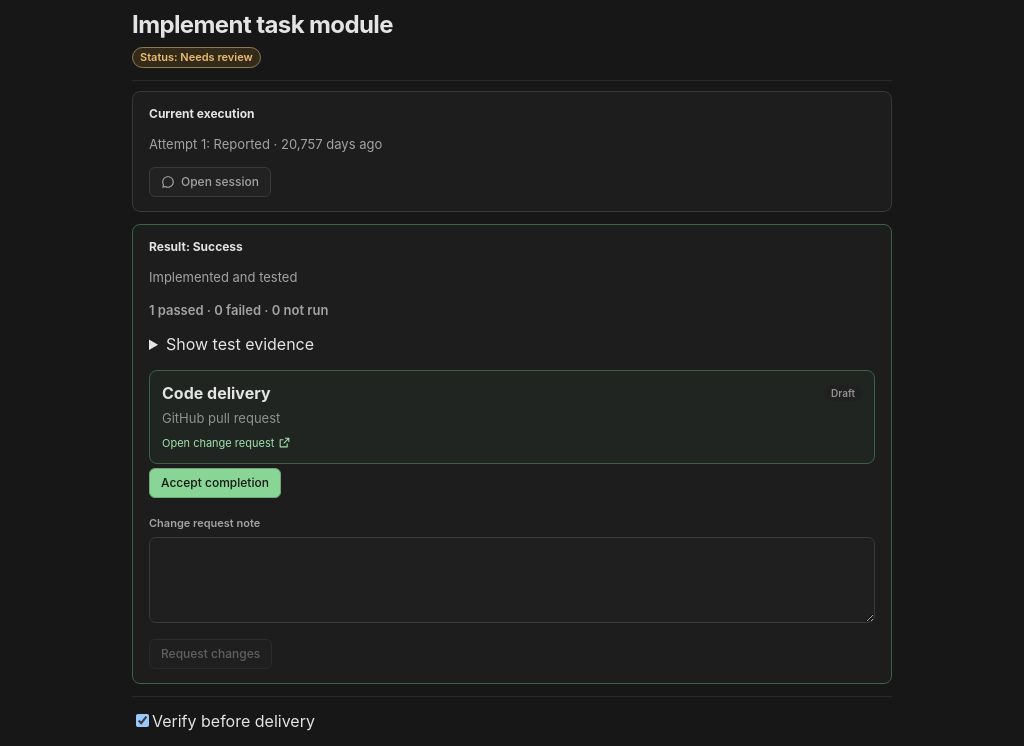
Test case: shows session navigation errors inline
Click the button "Open session": (210, 182) [149,167,271,197]
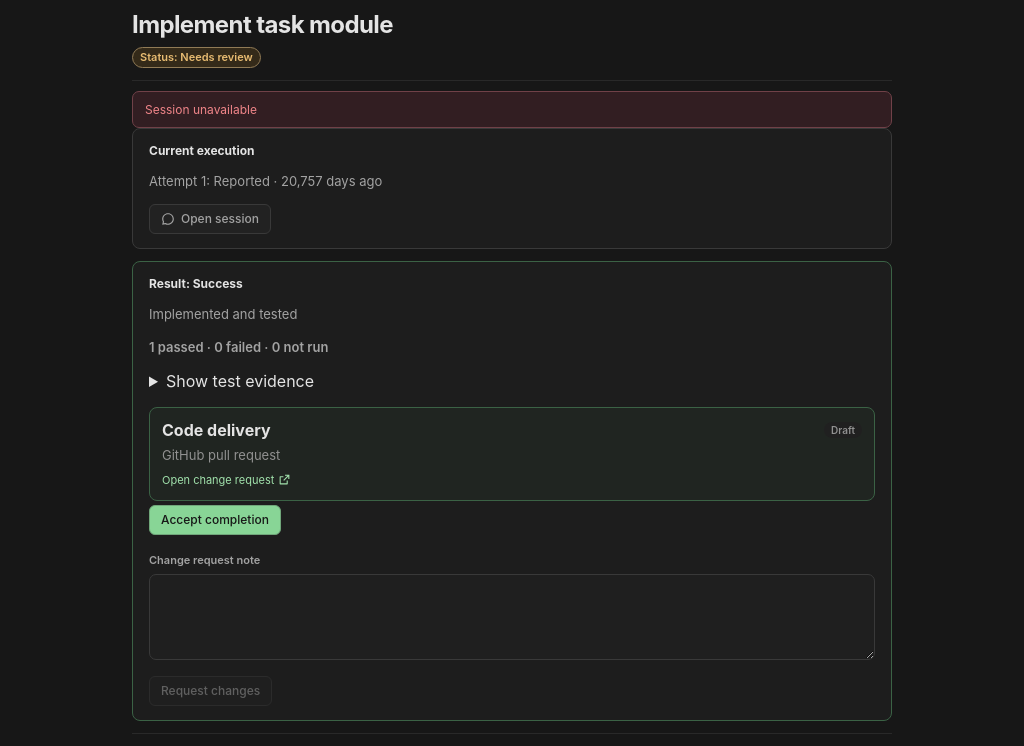
Expected: the message reads "Session unavailable", [145,102,257,117]
